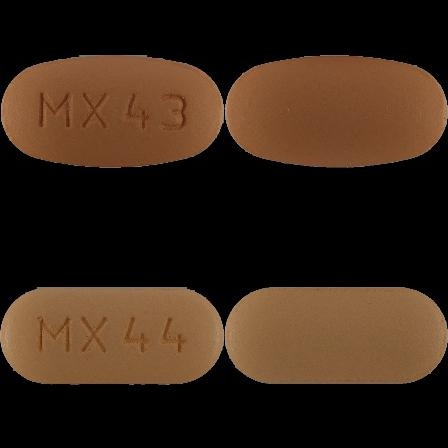0378-1723: (0, 0, 224, 224)
